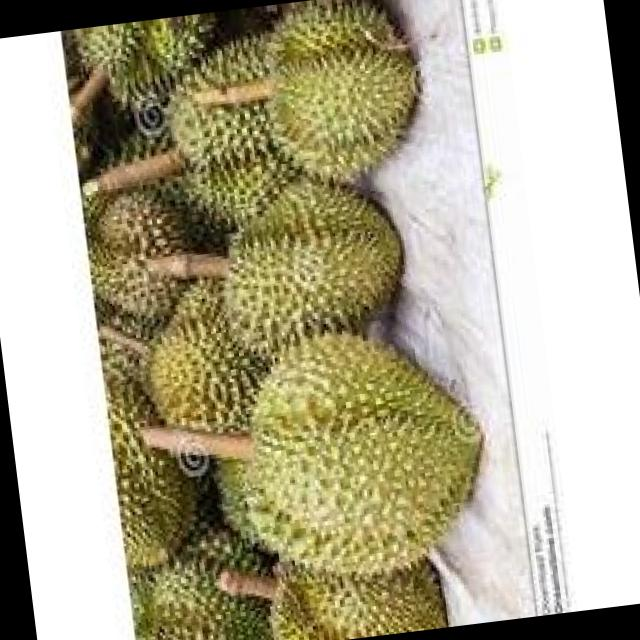fruit: (185, 290, 520, 618), (179, 152, 430, 384), (241, 0, 452, 208)
